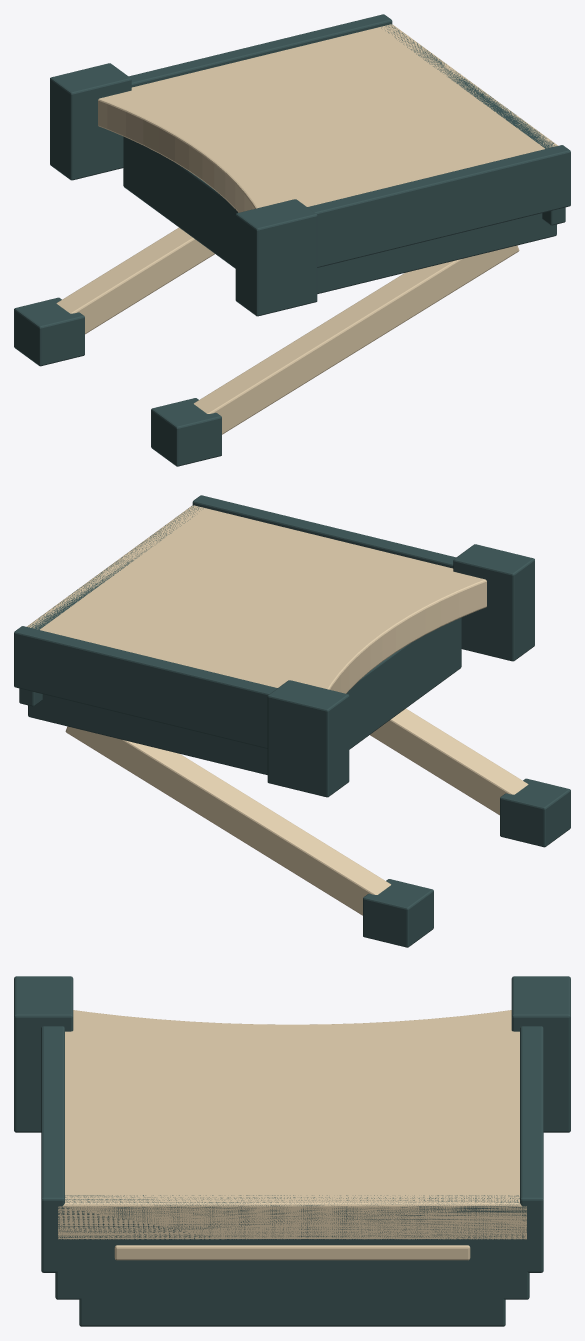
Rendered from Relay_Mount.glb.
3 views of the same model, one above another, from view 1: azimuth 30°, elevation 25°; view 2: azimuth 150°, elevation 25°; view 3: azimuth 270°, elevation 25° (orthographic). The views are drawn at different scales.
Visible parts, largest first — view 1: Relay_Mount; view 2: Relay_Mount; view 3: Relay_Mount.
Boxes of the visible parts, x1,y1,x2,y2 form: Relay_Mount: (14,14,570,466); Relay_Mount: (14,495,570,947); Relay_Mount: (14,976,570,1326).
Bounding box in the file's own units: 5.03 × 3 × 4.7.
